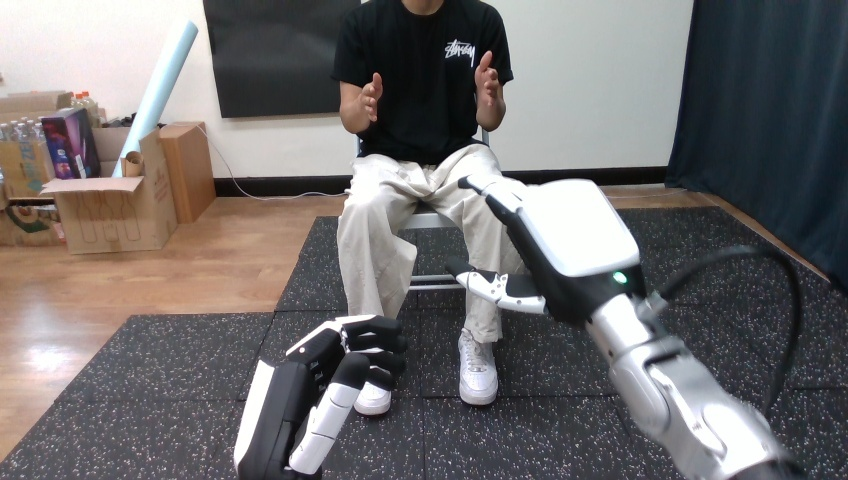left robot hand: (447, 174, 802, 478), (234, 315, 407, 479)
